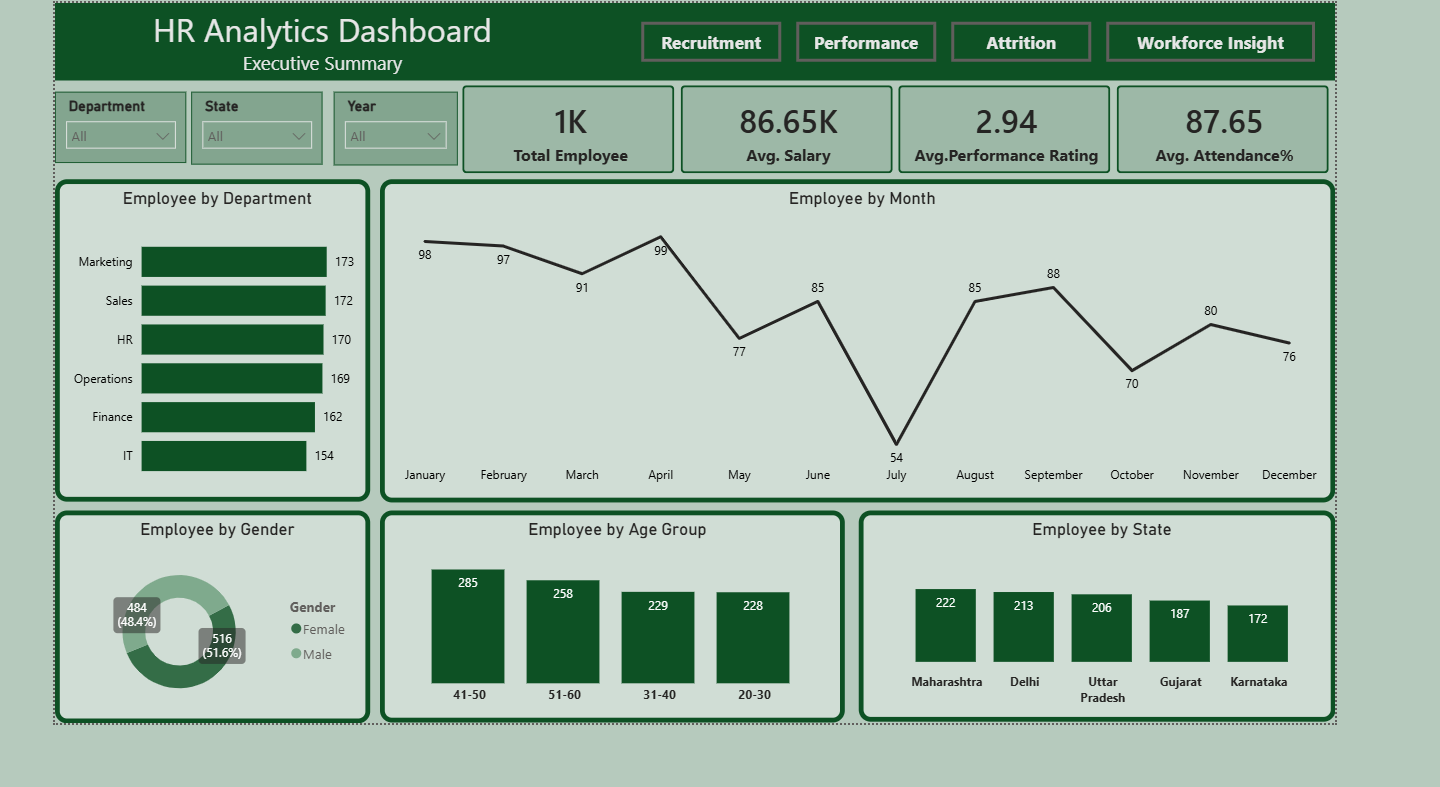

This screenshot's page, from the dashboard's own definition file:
{"tool":"powerbi","page":{"name":"Dashboard","canvas":[1280,720],"ordinal":0},"visuals":[{"type":"shape","box":[0,0,1280,77.5],"z":0},{"type":"textbox","box":[0,0,535,77.5],"z":1000},{"type":"actionButton","box":[586.2,18.8,140,40],"z":2000},{"type":"actionButton","box":[741.2,18.8,140,40],"z":3000},{"type":"actionButton","box":[896.2,18.8,140,40],"z":4000},{"type":"actionButton","box":[1051.2,18.8,208.8,40],"z":5000},{"type":"cardVisual","fields":{"Data":["CountNonNull(Hr_Analytics.Employee_ID)","Avg(Hr_Analytics.Salary)","Avg(Hr_Analytics.Performance_Rating)","Avg(Hr_Analytics.Attendance_%)"]},"box":[402.5,77.5,877.5,98.8],"z":6000},{"type":"clusteredBarChart","title":"Employee by Department","fields":{"Category":["Hr_Analytics.Department"],"Y":["CountNonNull(Hr_Analytics.Employee_Name)"]},"box":[0,176.2,315,322.5],"z":7000},{"type":"donutChart","title":" Employee by Gender","fields":{"Category":["Hr_Analytics.Gender"],"Y":["CountNonNull(Hr_Analytics.Employee_Name)"]},"box":[0,507.5,315,212.5],"z":8000},{"type":"lineChart","fields":{"Category":["Hr_Analytics.Hire_Date.Variation.Date Hierarchy.Month"],"Y":["CountNonNull(Hr_Analytics.Employee_Name)"]},"box":[325.3,176.1,955,322.8],"z":9000},{"type":"columnChart","title":"Employee by Age Group","fields":{"Y":["CountNonNull(Hr_Analytics.Employee_Name)"],"Category":["Hr_Analytics.Age Group"]},"box":[325,508,465,212],"z":10000},{"type":"slicer","fields":{"Values":["Hr_Analytics.Department"]},"box":[0,88.8,131.2,71.2],"z":11000},{"type":"slicer","fields":{"Values":["Hr_Analytics.Hire_Date.Variation.Date Hierarchy.Year"]},"box":[278.8,88.8,123.8,73.8],"z":12000},{"type":"slicer","fields":{"Values":["Hr_Analytics.State"]},"box":[136.2,88.8,131.2,72.5],"z":13000},{"type":"clusteredColumnChart","title":" Employee by State","fields":{"Category":["Hr_Analytics.State"],"Y":["CountNonNull(Hr_Analytics.Employee_Name)"]},"box":[803.4,507.5,476.9,211.6],"z":14000}]}

Visuals, with their boxes in screenshot pixels (x1, y1, x2, y2), scaled from the page's 1280x720 canvas onto the 1440x787 screenshot:
shape: BBox(0, 0, 1439, 85)
textbox: BBox(0, 0, 602, 85)
actionButton: BBox(659, 21, 817, 64)
actionButton: BBox(834, 21, 991, 64)
actionButton: BBox(1008, 21, 1166, 64)
actionButton: BBox(1183, 21, 1418, 64)
cardVisual - CountNonNull(Hr_Analytics.Employee_ID) x Avg(Hr_Analytics.Salary): BBox(453, 85, 1439, 193)
"Employee by Department" clusteredBarChart: BBox(0, 193, 354, 545)
" Employee by Gender" donutChart: BBox(0, 555, 354, 786)
lineChart - Hr_Analytics.Hire_Date.Variation.Date Hierarchy.Month x CountNonNull(Hr_Analytics.Employee_Name): BBox(366, 192, 1439, 545)
"Employee by Age Group" columnChart: BBox(366, 555, 889, 786)
slicer - Hr_Analytics.Department: BBox(0, 97, 148, 175)
slicer - Hr_Analytics.Hire_Date.Variation.Date Hierarchy.Year: BBox(314, 97, 453, 178)
slicer - Hr_Analytics.State: BBox(153, 97, 301, 176)
" Employee by State" clusteredColumnChart: BBox(904, 555, 1439, 786)
